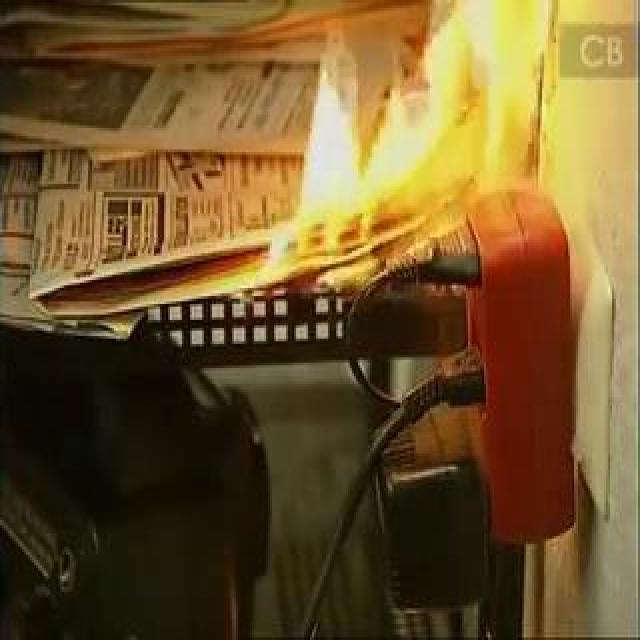Fire: (240, 2, 530, 306)
